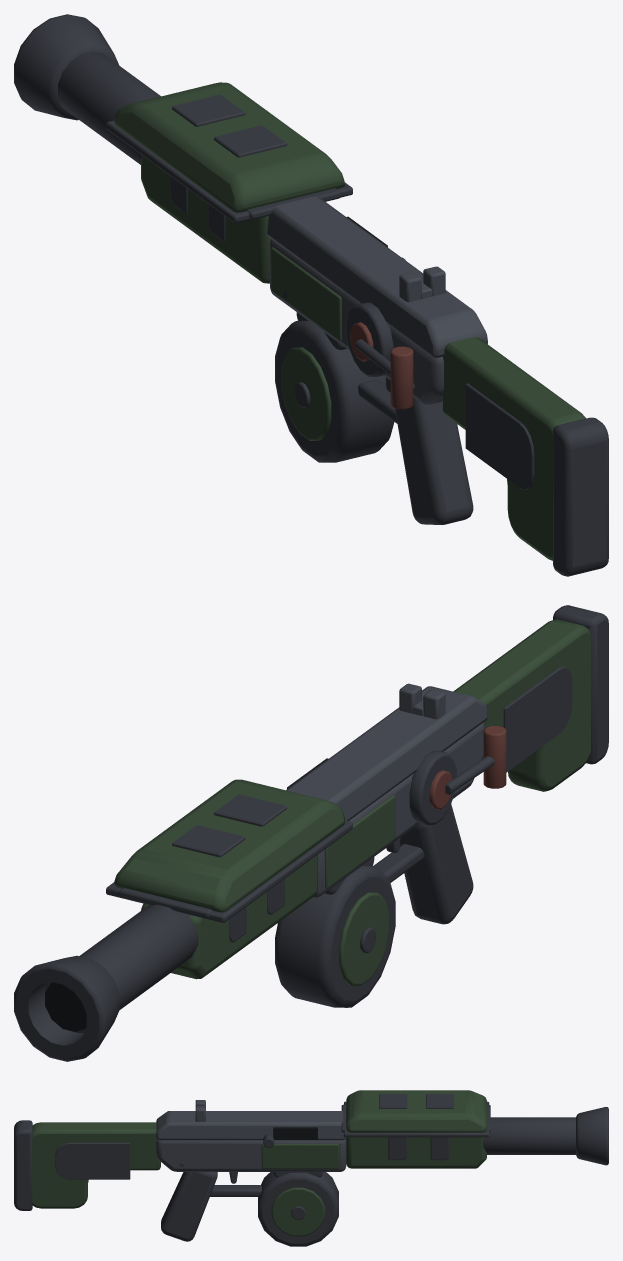
File: w_autoshot.glb
3 views of the same model, one above another, from view 1: azimuth 30°, elevation 25°; view 2: azimuth 150°, elevation 25°; view 3: azimuth 270°, elevation 25° (orthographic). The views are drawn at different scales.
Visible parts, largest first — view 1: mower_wzA, deck_wzA, stock_wzA, barrel_wzB, stock_wzB, grip_wzB, mag_wzB, mower_wzN, guard_wzA, stock_wzN, mag_wzN, body_wzA (+5 smaller); view 2: mower_wzA, barrel_wzB, stock_wzA, deck_wzA, mag_wzB, grip_wzB, mower_wzN, guard_wzA, stock_wzN, mag_wzN, stock_wzB, body_wzA (+6 smaller); view 3: stock_wzA, mower_wzA, barrel_wzB, deck_wzA, body_wzB, guard_wzA, mag_wzB, grip_wzB, stock_wzN, mower_wzN, mag_wzN, body_wzA (+4 smaller).
Boxes of the visible parts, box(x1,y1,x2,y2) form: mower_wzA: box(114, 82, 344, 212); deck_wzA: box(266, 196, 487, 357); stock_wzA: box(442, 337, 586, 560); barrel_wzB: box(14, 14, 160, 164); stock_wzB: box(553, 417, 608, 576); grip_wzB: box(358, 377, 473, 524); mag_wzB: box(275, 312, 394, 462); mower_wzN: box(106, 94, 352, 222); guard_wzA: box(141, 155, 270, 283); stock_wzN: box(465, 383, 534, 490); mag_wzN: box(281, 347, 331, 440); body_wzA: box(271, 247, 341, 340); mower_wzA: box(114, 779, 344, 912); barrel_wzB: box(14, 904, 198, 1061); stock_wzA: box(453, 619, 590, 791); deck_wzA: box(286, 686, 487, 820); mag_wzB: box(275, 857, 395, 1007); grip_wzB: box(373, 803, 473, 924); mower_wzN: box(106, 794, 352, 922); guard_wzA: box(141, 854, 317, 979); stock_wzN: box(503, 666, 572, 772); mag_wzN: box(339, 892, 389, 985); stock_wzB: box(553, 605, 608, 764); body_wzA: box(325, 795, 395, 888); stock_wzA: box(32, 1122, 160, 1208); mower_wzA: box(346, 1090, 486, 1132); barrel_wzB: box(483, 1107, 608, 1165); deck_wzA: box(156, 1111, 345, 1140); body_wzB: box(156, 1138, 346, 1171); guard_wzA: box(346, 1137, 486, 1168); mag_wzB: box(258, 1172, 338, 1246); grip_wzB: box(161, 1172, 261, 1241); stock_wzN: box(55, 1142, 130, 1179); mower_wzN: box(341, 1094, 490, 1137); mag_wzN: box(271, 1187, 324, 1236); body_wzA: box(261, 1144, 339, 1168).
Size of the model in its own units: 0.164 by 0.3303 by 1.27.
